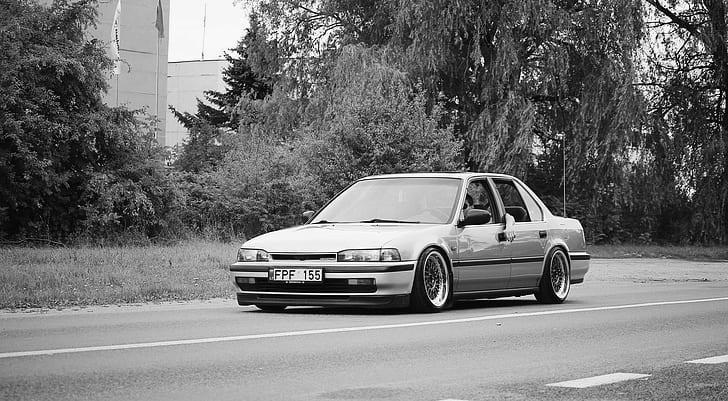Car hood: (239, 221, 458, 257)
Fender - -F-L-: (379, 222, 459, 299)
Fender - -R-L-: (539, 213, 572, 289)
Front bumper: (227, 266, 420, 315)
Headlight - -L-: (334, 244, 405, 265)
Headlight - -R-: (233, 245, 275, 265)
Passenger-s door - -F-L-: (460, 173, 512, 293)
Passenger-s door - -R-L-: (510, 173, 555, 294)
Rear bumper: (565, 249, 593, 288)
Side bumper - -L-: (449, 284, 547, 303)
Side mirror - -L-: (451, 206, 494, 231)
Side mirror - -R-: (298, 206, 318, 226)
